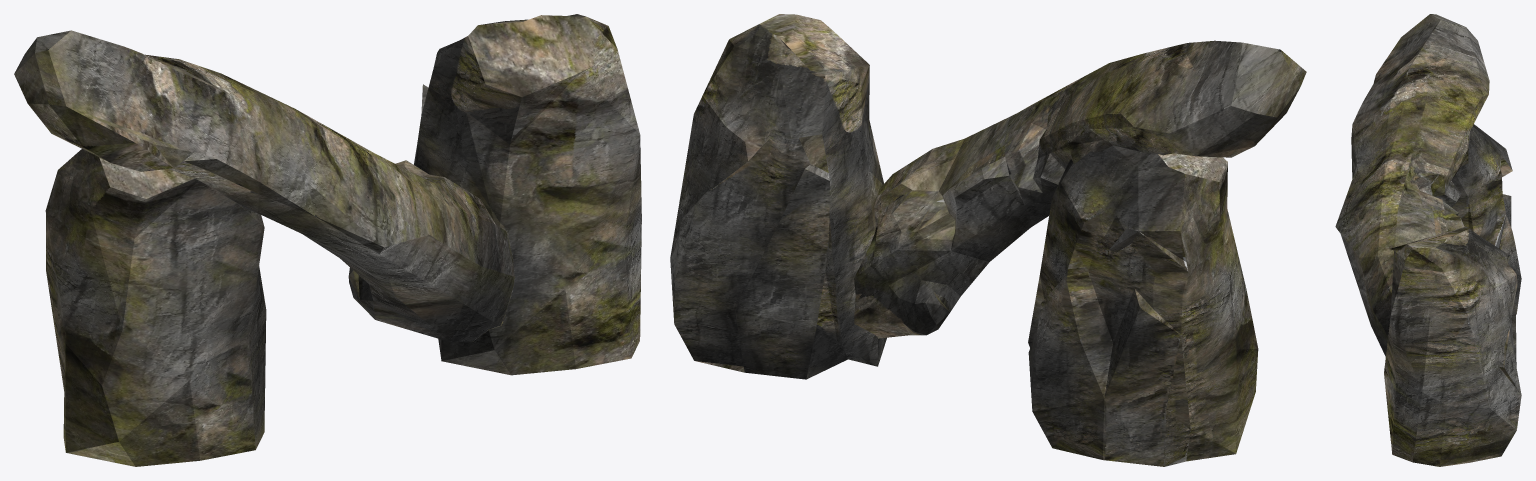
Rendered from endlessMistEntrance.glb.
The picture shows the model from 3 angles, left to right: view 1: azimuth 30°, elevation 25°; view 2: azimuth 150°, elevation 25°; view 3: azimuth 270°, elevation 25°; orthographic projection. The views are drawn at different scales.
Parts seen in each view (by area): view 1: Cube; view 2: Cube; view 3: Cube.
Boxes of the visible parts, x1,y1,x2,y2 form: Cube: (14,14,641,466); Cube: (670,14,1306,466); Cube: (1335,14,1521,466).
Bounding box in the file's own units: 25.69 × 17.24 × 10.66.
Materials: 1 (1 with a texture image).
